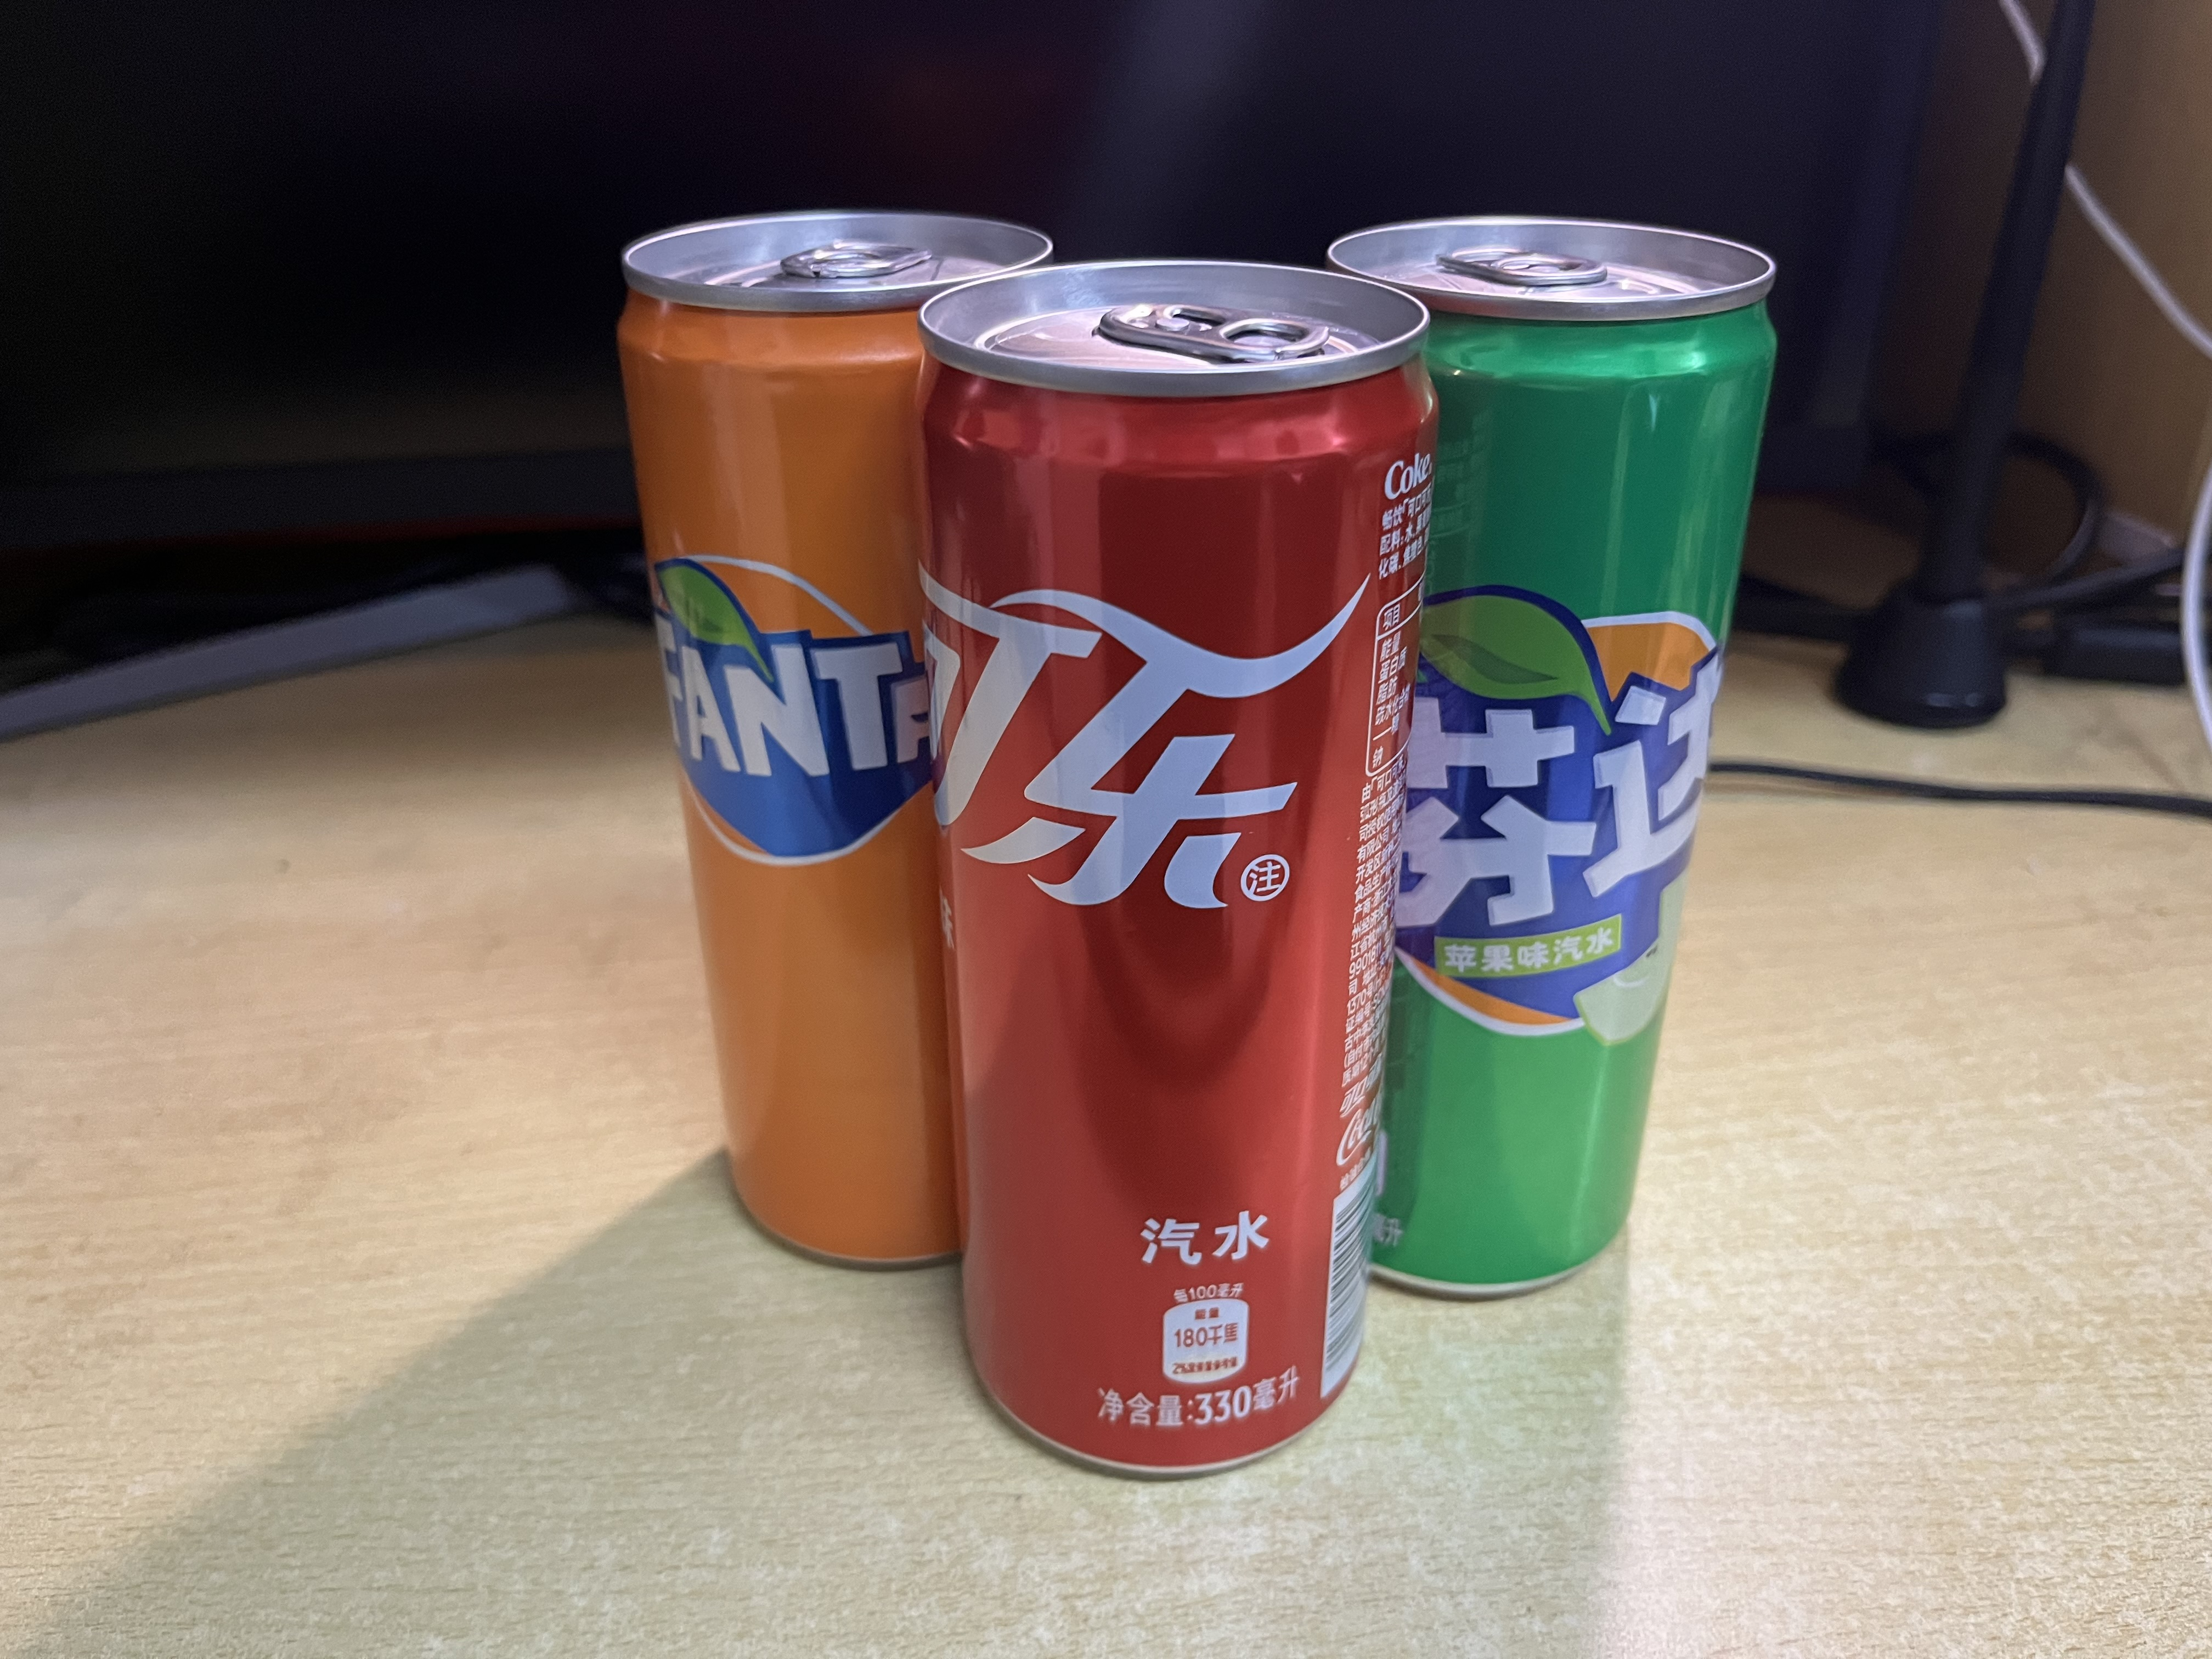CocaCola: (920, 258, 1439, 1483)
FANTA_Apple: (1327, 216, 1780, 1300)
FANTA_Orange: (613, 214, 1054, 1269)
